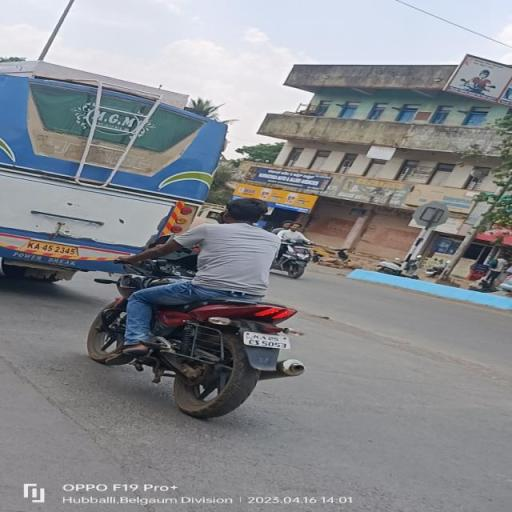bike: (84, 195, 322, 419)
numberplate: (242, 330, 292, 350)
withouthelmet: (222, 200, 270, 222)
